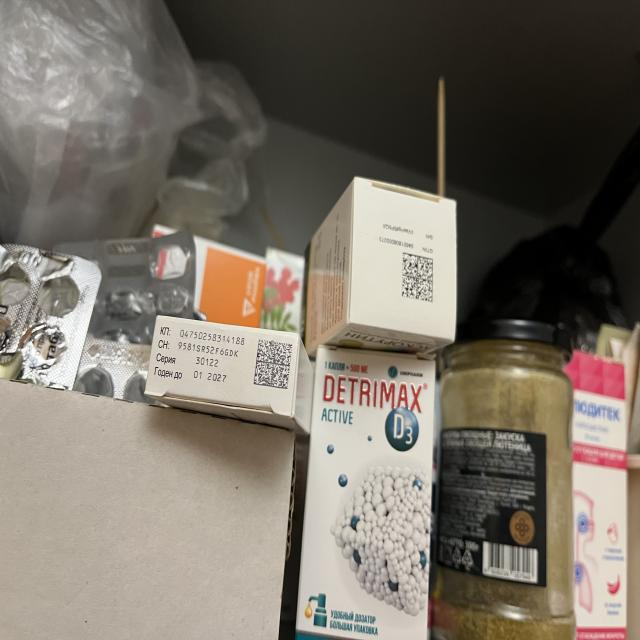datamatrix: (254, 340, 294, 390), (402, 253, 434, 304)
